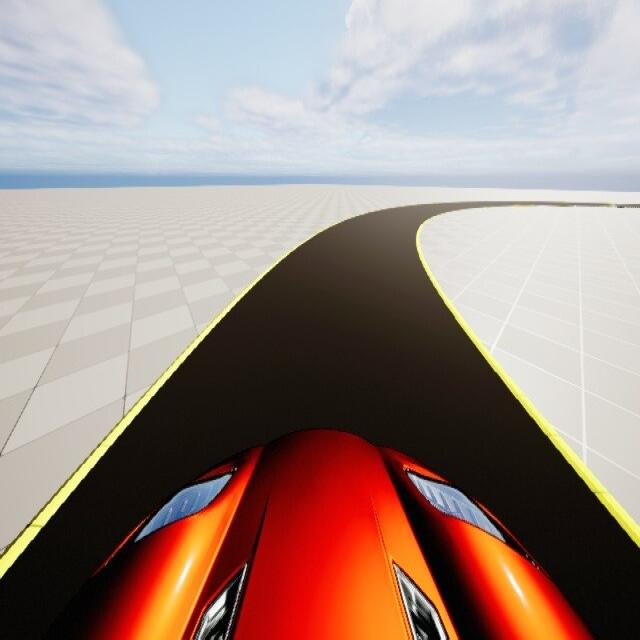lane: (0, 205, 639, 639)
